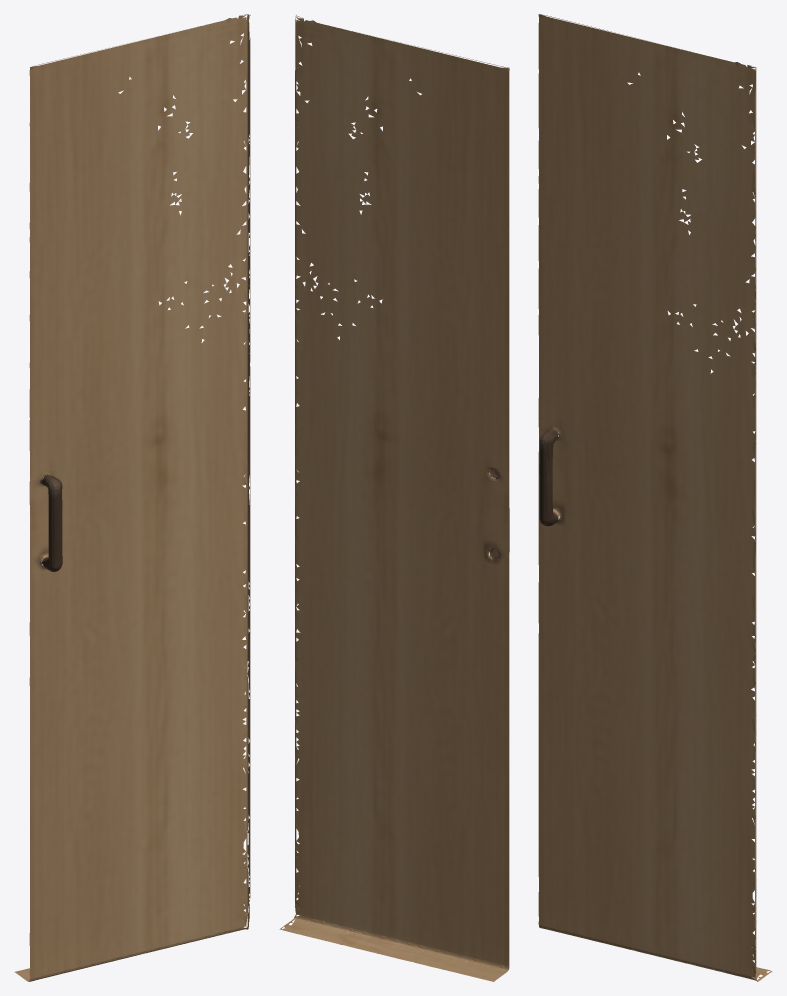
Rendered from wardrobe-door-right.glb.
3 views of the same model, side by side, from view 1: azimuth 30°, elevation 25°; view 2: azimuth 150°, elevation 25°; view 3: azimuth 330°, elevation 25° (orthographic).
Visible parts, largest first — view 1: source_surface_4, source_surface_0, source_surface_2; view 2: source_surface_4, source_surface_0; view 3: source_surface_4, source_surface_0, source_surface_2.
Part boxes in pixels (x1,y1,x2,y2): source_surface_4: (14, 14, 250, 981); source_surface_0: (31, 14, 249, 926); source_surface_2: (38, 471, 62, 571); source_surface_4: (279, 15, 509, 981); source_surface_0: (281, 16, 509, 929); source_surface_4: (538, 14, 772, 981); source_surface_0: (544, 15, 770, 979); source_surface_2: (539, 426, 561, 526).
Size of the model in its own units: 0.4733 by 1.9 by 0.1049.
1 material, 1 textured.
